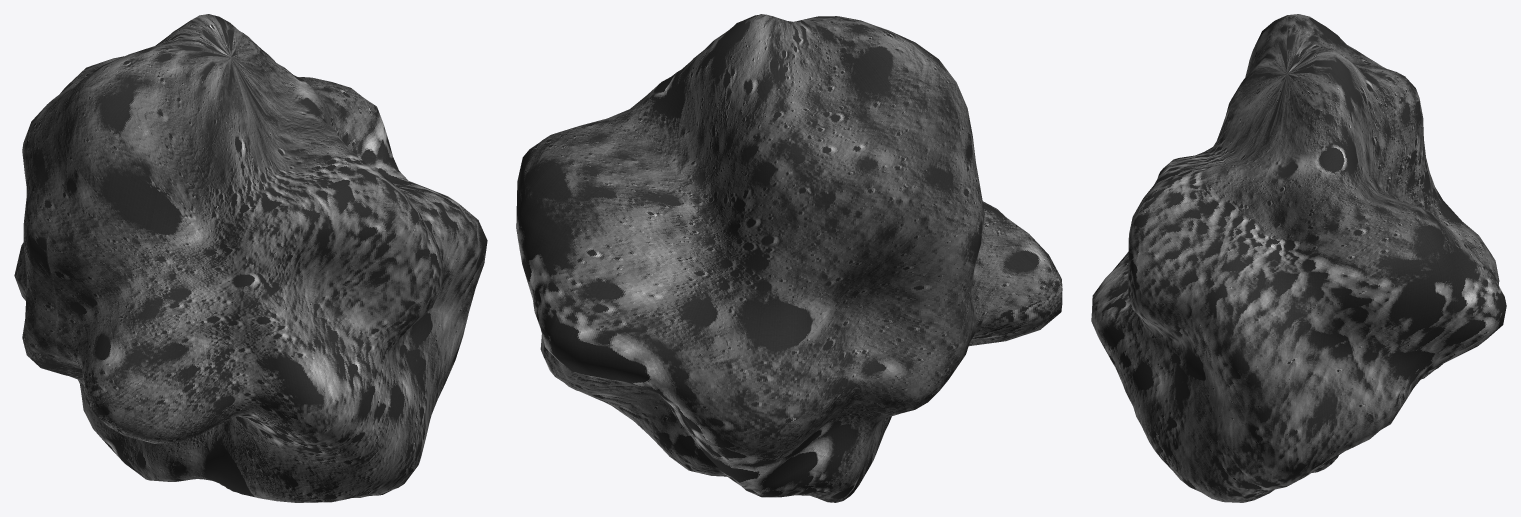
The model's file is asteroide.gltf.
The picture shows the model from 3 angles, left to right: view 1: azimuth 30°, elevation 25°; view 2: azimuth 150°, elevation 25°; view 3: azimuth 270°, elevation 25°; orthographic projection. The views are drawn at different scales.
Parts seen in each view (by area): view 1: Esfera; view 2: Esfera; view 3: Esfera.
Boxes of the visible parts, x1,y1,x2,y2 form: Esfera: (14, 14, 487, 502); Esfera: (516, 14, 1062, 502); Esfera: (1091, 14, 1506, 502).
Bounding box in the file's own units: 6.29 × 6.52 × 6.
Materials: 1 (1 with a texture image).
